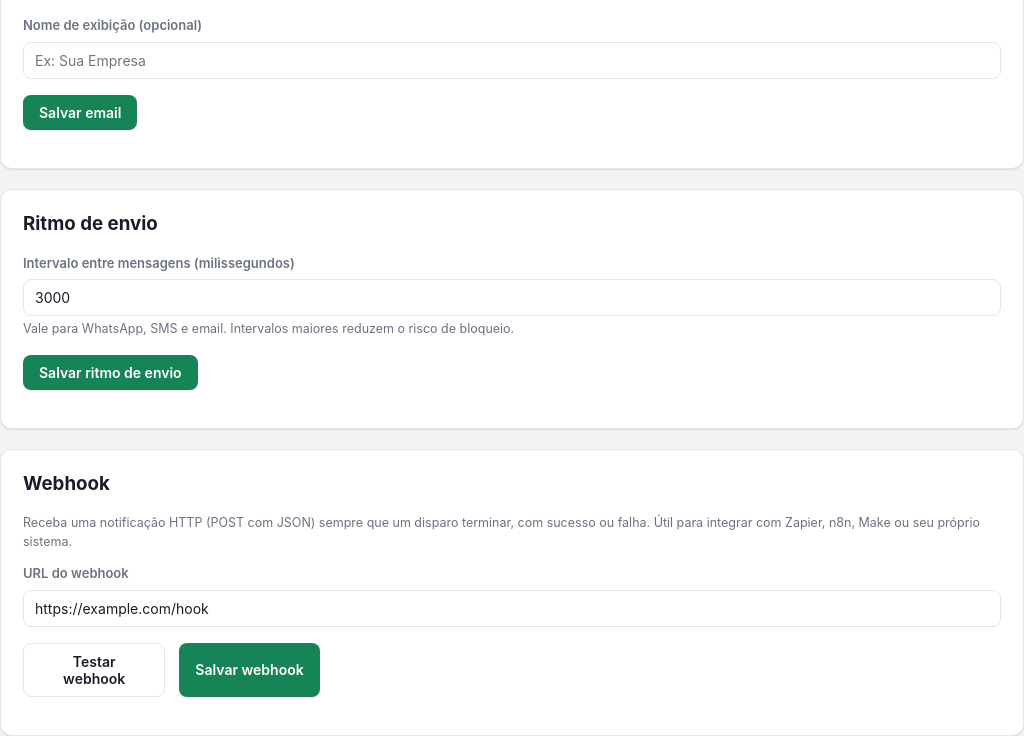
Test case: ConfiguracoesPage - Webhook › sends a test webhook and shows a success toast
(page scrolled)
What coordinates should you click on to do the following:
click the button "Testar webhook"
I would click on:
 (94, 670)
Its box is [23, 643, 165, 697].
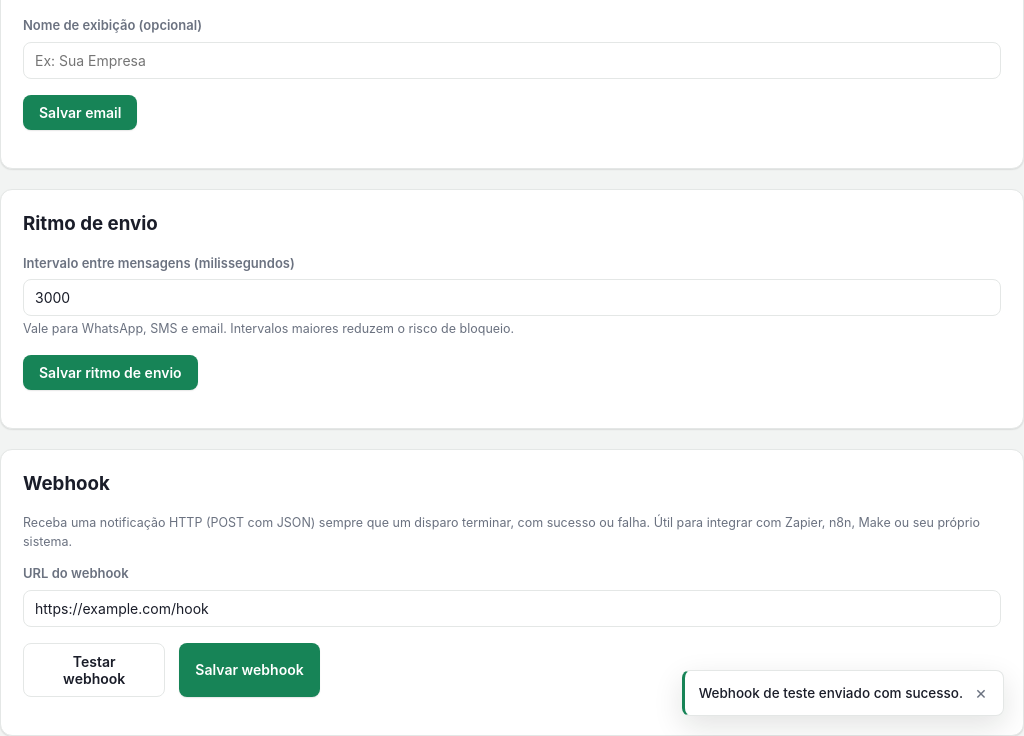
Now the text "Webhook de teste enviado com sucesso." is shown, box [699, 683, 963, 703]
